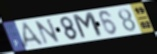6: (98, 10, 119, 36)
8: (117, 7, 138, 33), (60, 16, 79, 42)
A: (22, 21, 47, 50)
M: (71, 11, 105, 41)
N: (33, 17, 62, 46)
